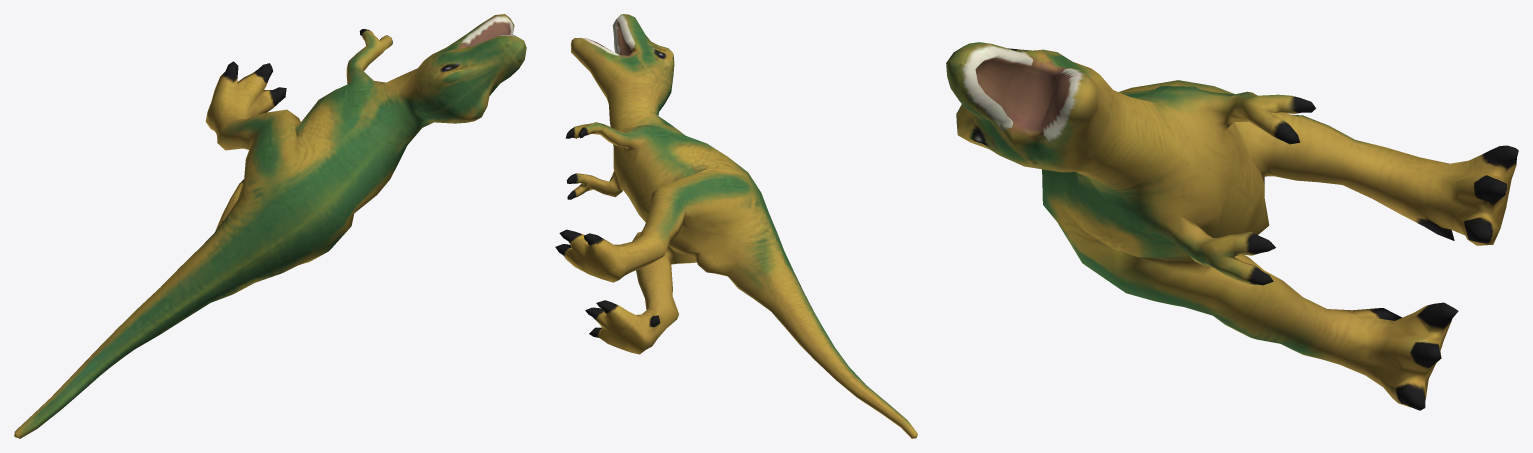
The model's file is GTDinosaur.obj.
3 renders of one model, left to right at view 1: azimuth 30°, elevation 25°; view 2: azimuth 150°, elevation 25°; view 3: azimuth 270°, elevation 25°, orthographic. The views are drawn at different scales.
Parts seen in each view (by area): view 1: xiaoKongLong; view 2: xiaoKongLong; view 3: xiaoKongLong.
Boxes of the visible parts, x1,y1,x2,y2 form: xiaoKongLong: (14,14,526,438); xiaoKongLong: (555,14,917,438); xiaoKongLong: (946,42,1518,410).
Bounding box in the file's own units: 1.86 × 1.37 × 1.21.
